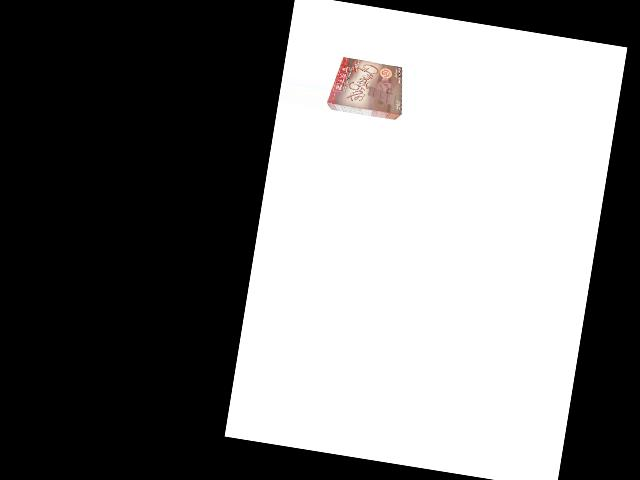chocolate: (328, 54, 409, 120)
